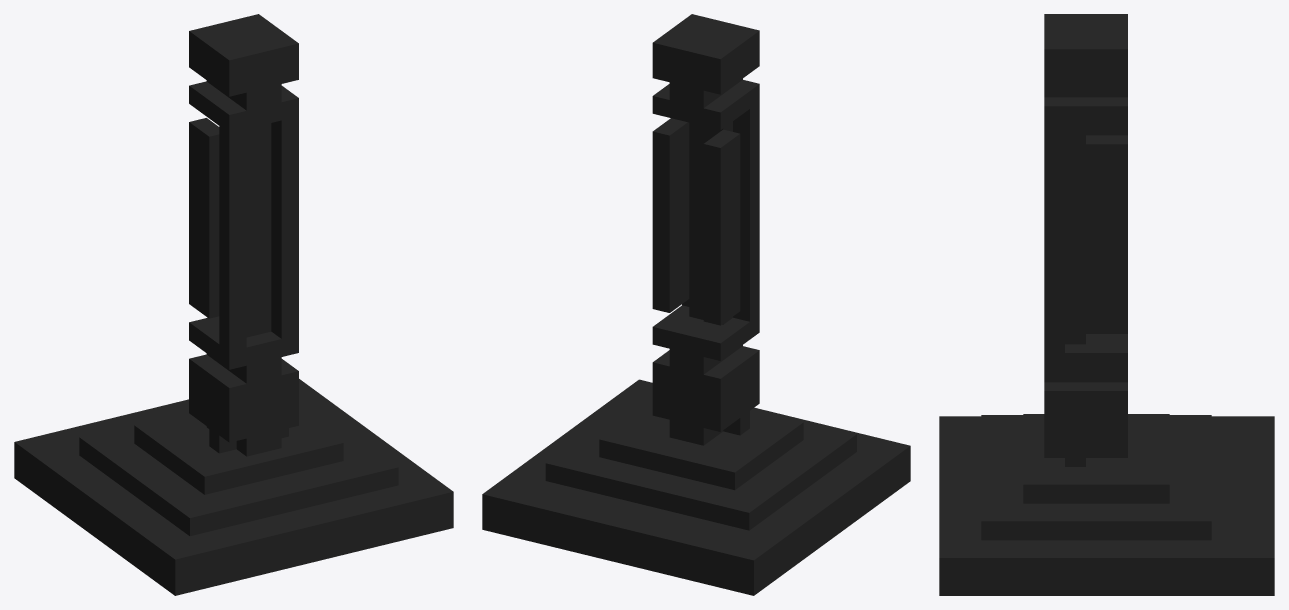
Rendered from turret1Bot.obj.
3 views of the same model, side by side, from view 1: azimuth 30°, elevation 25°; view 2: azimuth 150°, elevation 25°; view 3: azimuth 270°, elevation 25° (orthographic). The views are drawn at different scales.
Size of the model in its own units: 16 by 26 by 16.
1 material, 1 textured.
